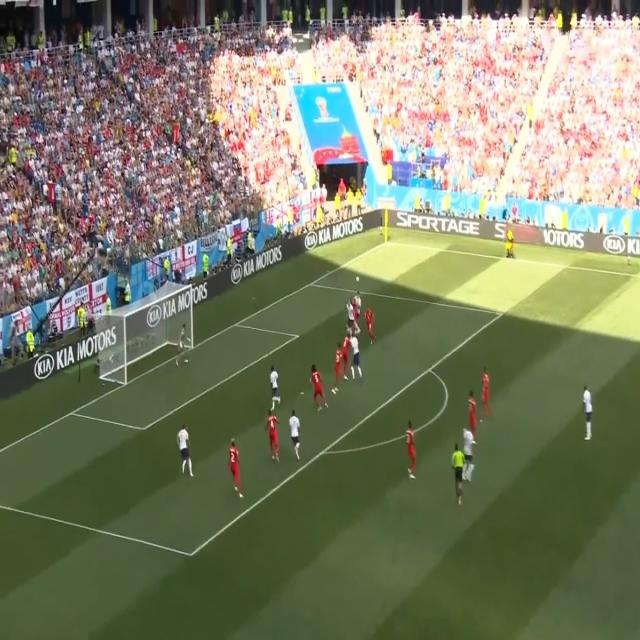ball: (355, 272, 360, 286)
player: (225, 433, 245, 502), (264, 405, 283, 469), (287, 409, 305, 465), (308, 361, 327, 413), (176, 424, 194, 478), (579, 381, 594, 445), (405, 413, 418, 480), (464, 425, 476, 485), (269, 360, 282, 410), (333, 342, 343, 400), (482, 366, 491, 423), (351, 332, 361, 382), (364, 304, 376, 345), (469, 388, 477, 434), (343, 332, 350, 383), (345, 296, 354, 329), (355, 295, 363, 324)
